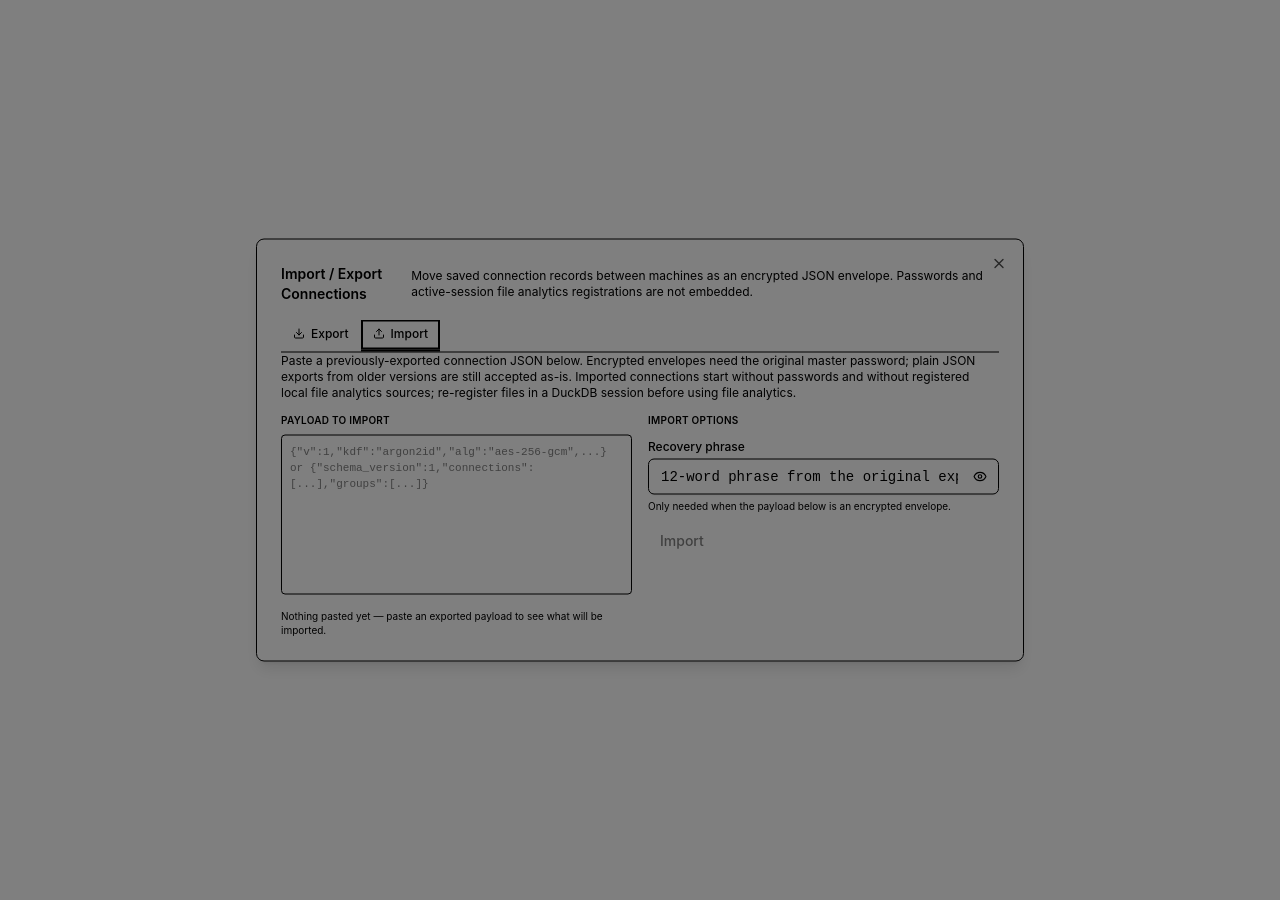
it: ImportExportDialog › Import › renders error alert when importConnections rejects
The width and height of the screenshot is (1280, 900).
Replace the text in the text box named "Import JSON input" with "garbage". click: (456, 514)
box: [281,434,632,594]
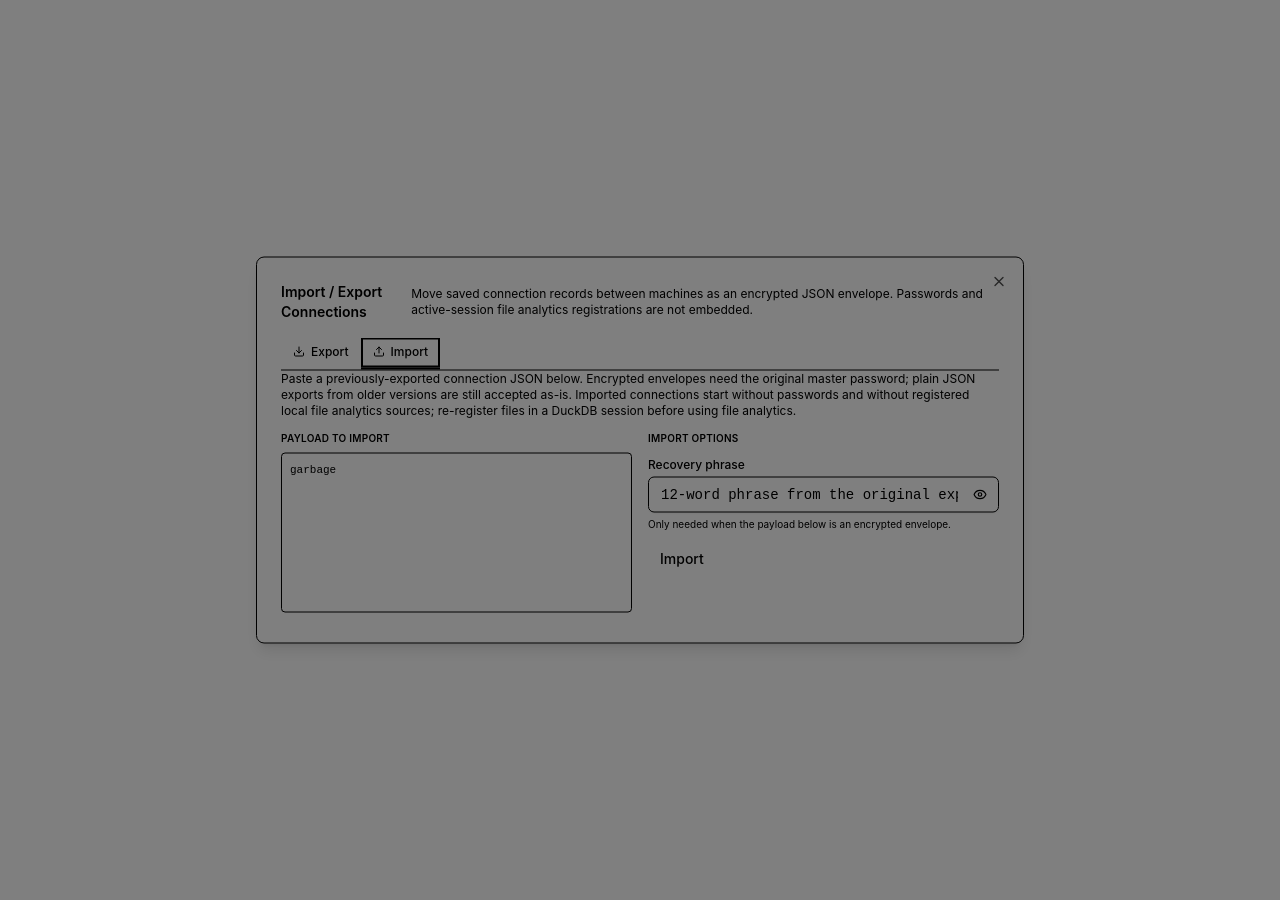
Click the button "Import". click: (682, 558)
box: [648,542,716,574]
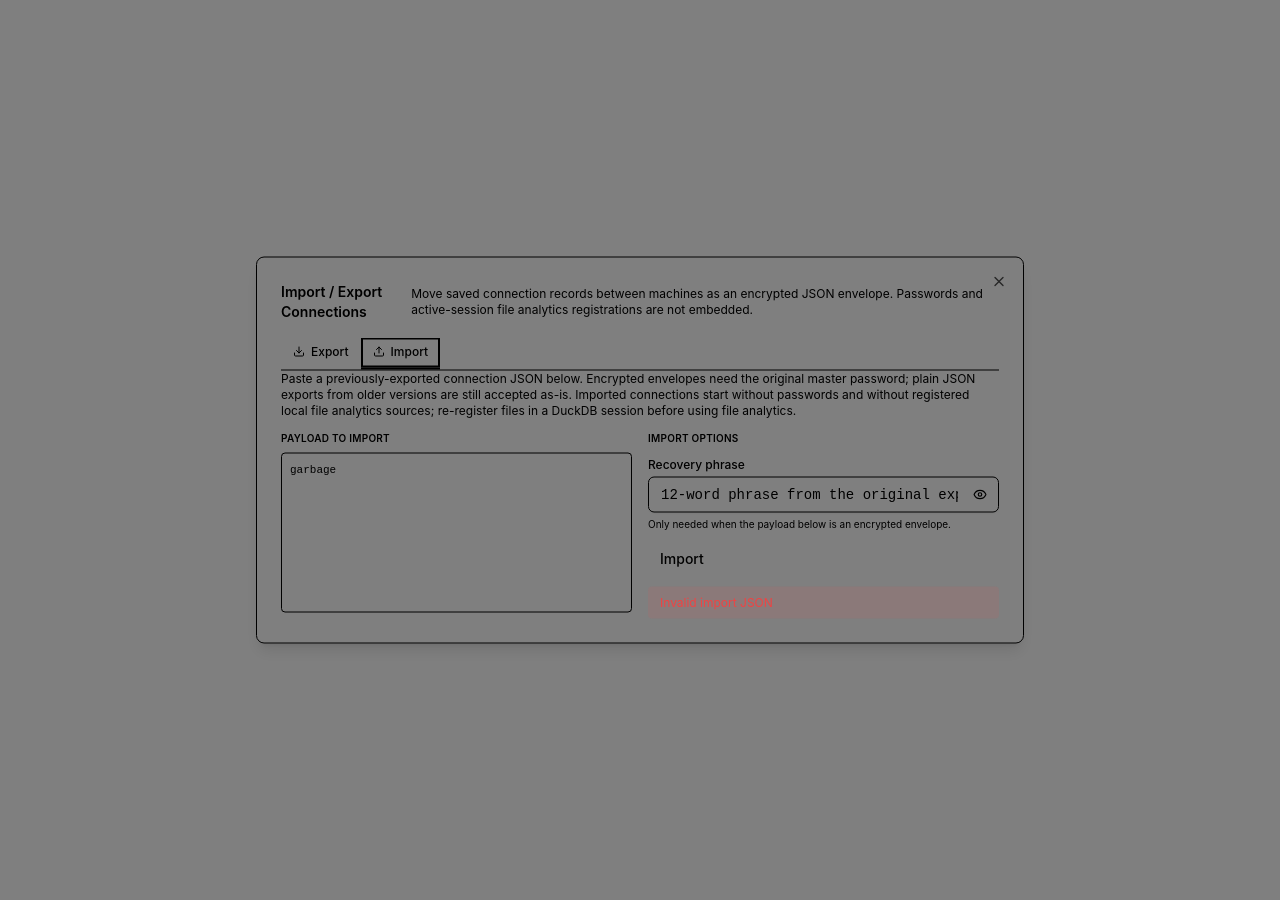
Expected: the message reads "Invalid import JSON", [660,594,773,610]
